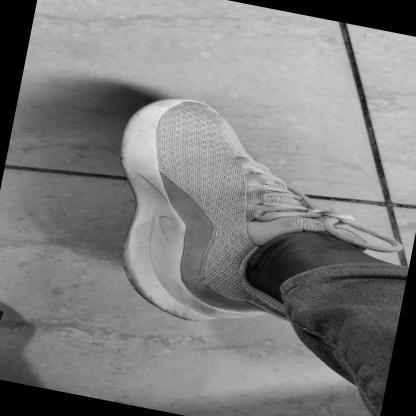ankle: (233, 258, 250, 267)
heel: (179, 308, 195, 319)
pinky: (221, 122, 231, 128)
right_foot: (92, 89, 347, 343)
toe: (160, 107, 177, 116)
